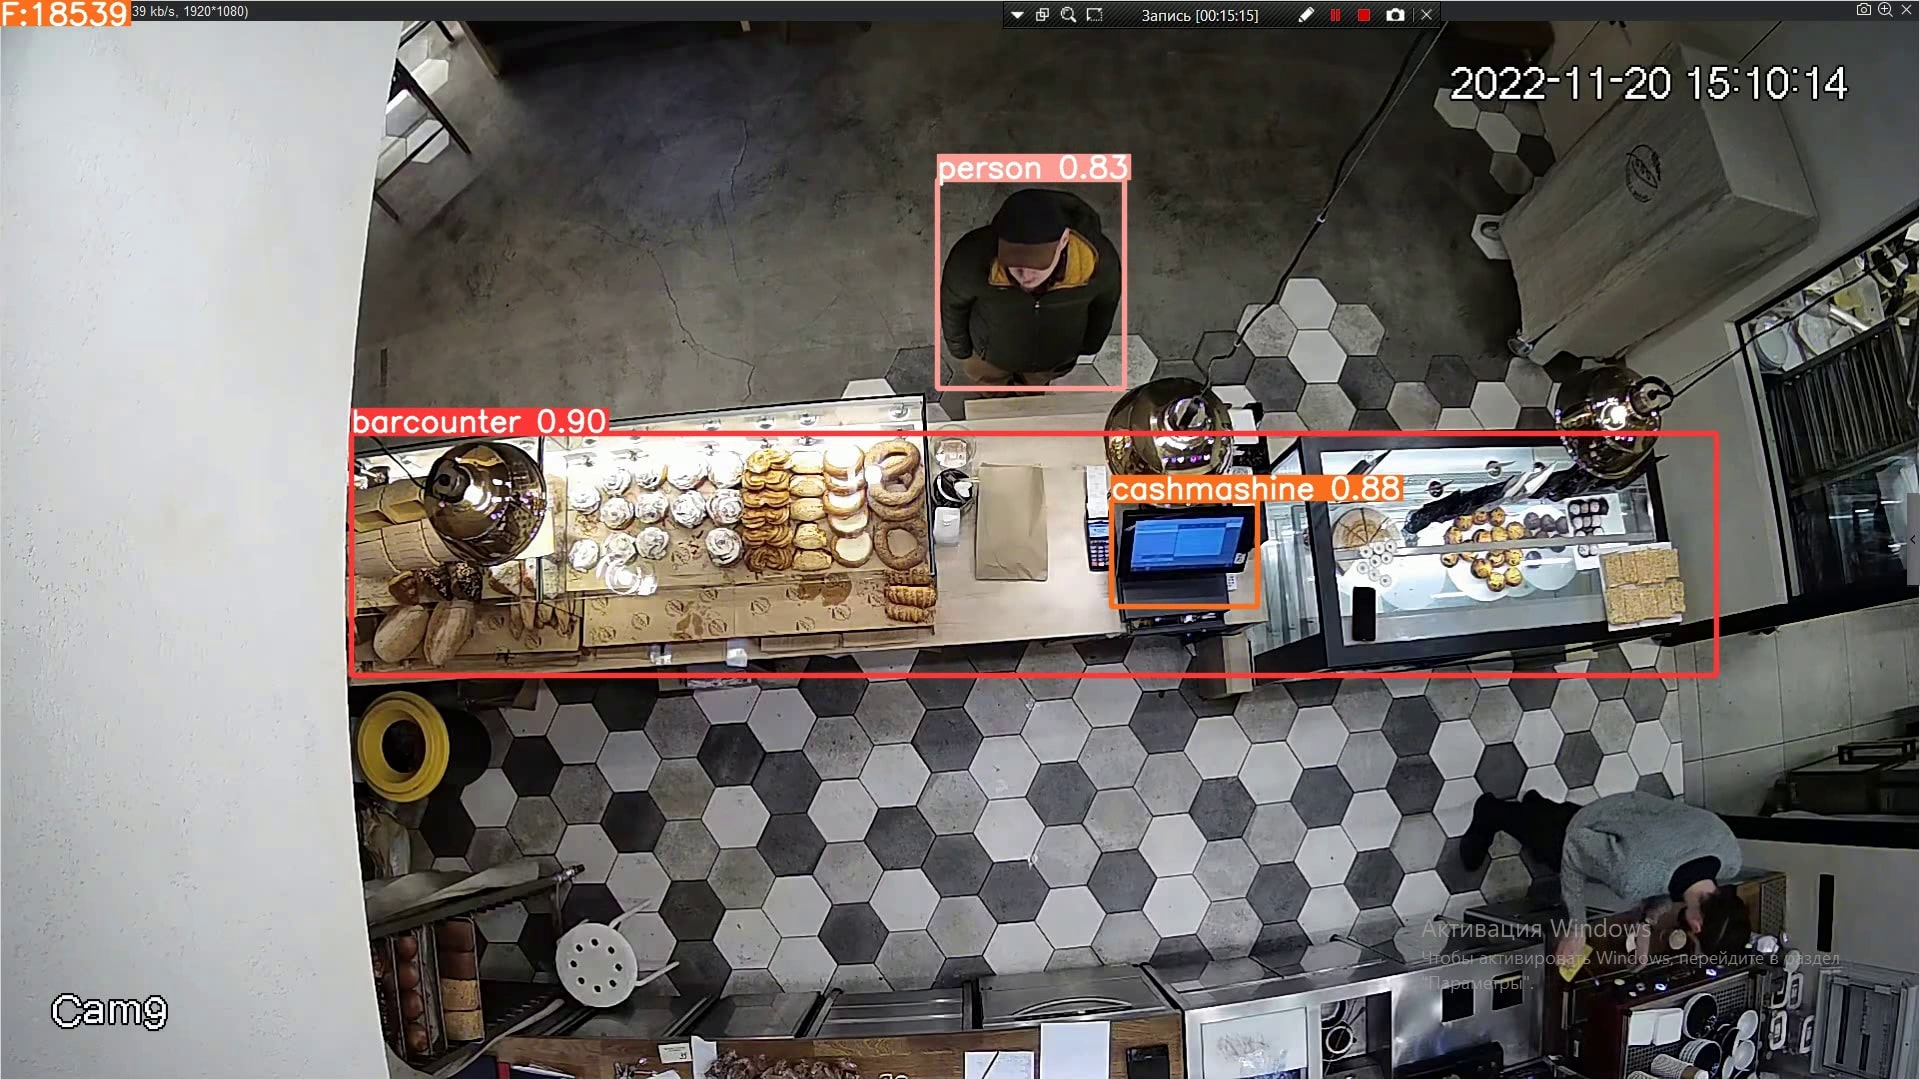pack: (971, 462, 1058, 589)
